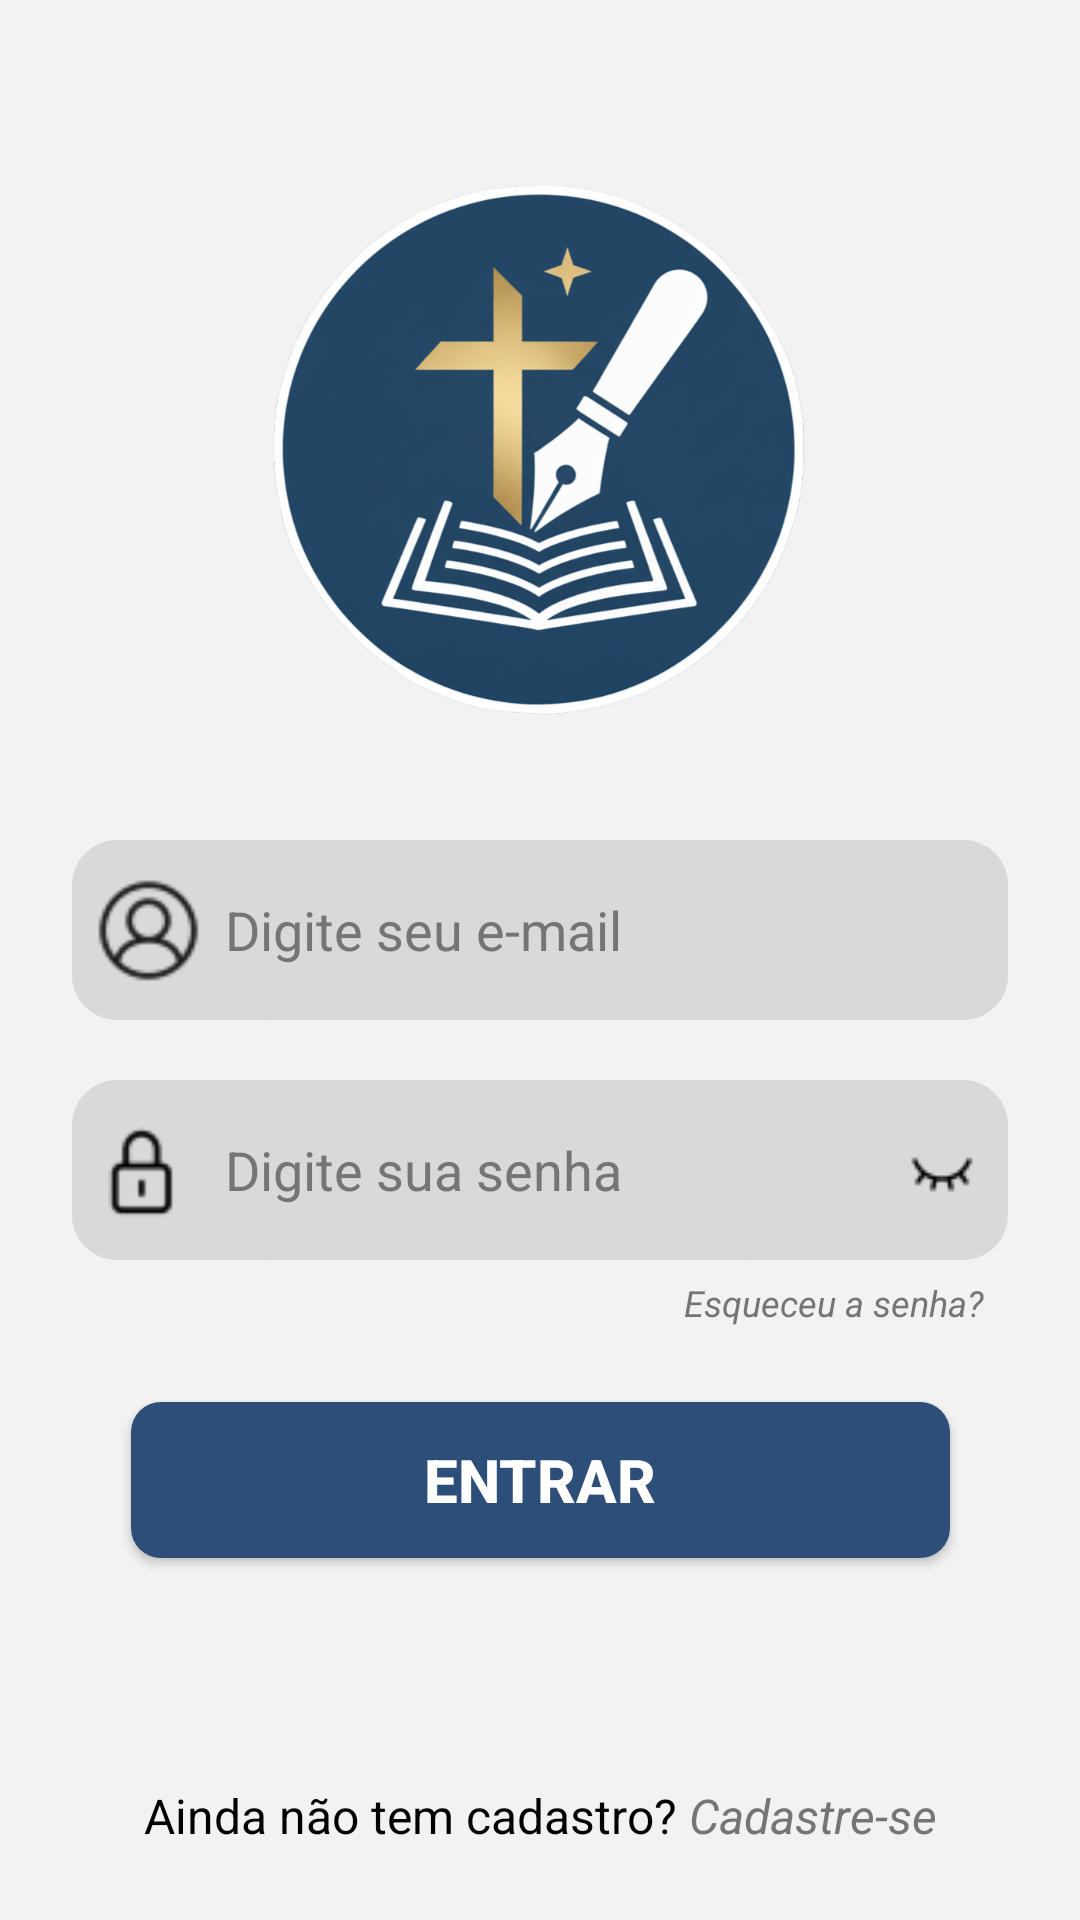

Icon click points for this 1080px×1920px phone screenshot, format (x,y):
senhamedio: (141,1172)
usuariomedio: (148,930)
visibility off: (942,1174)
